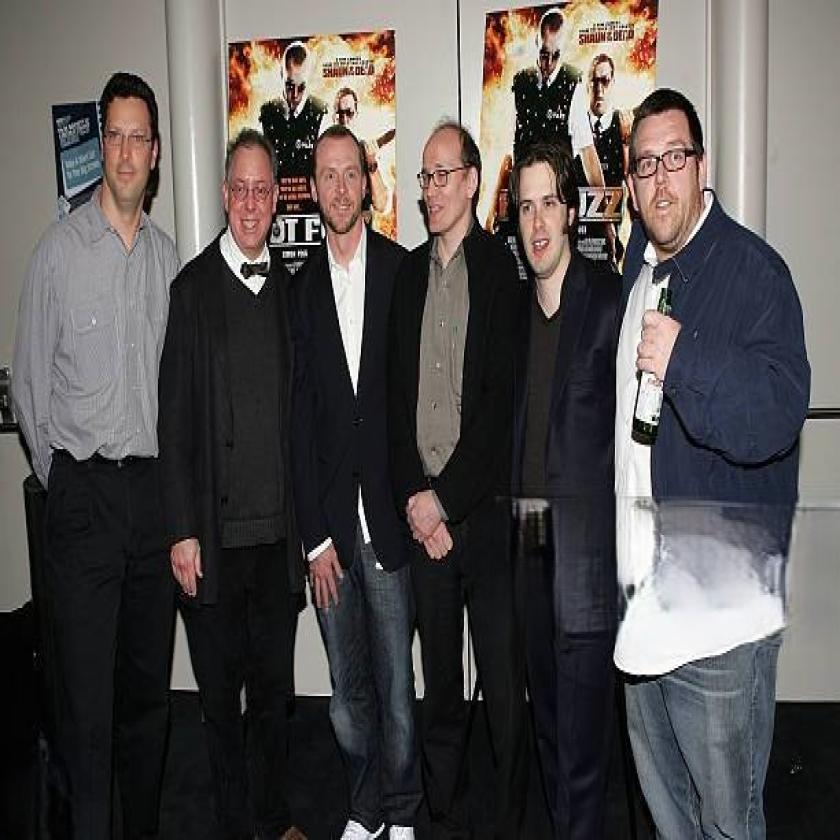Sin_casco: (614, 70, 718, 249), (96, 40, 166, 229), (508, 120, 581, 285), (208, 117, 284, 258), (417, 100, 486, 241), (309, 117, 375, 233)
